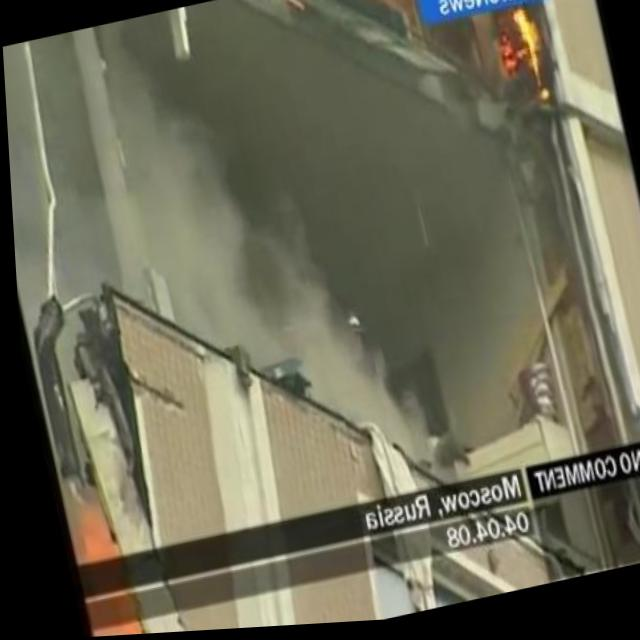fire: (487, 6, 555, 108)
